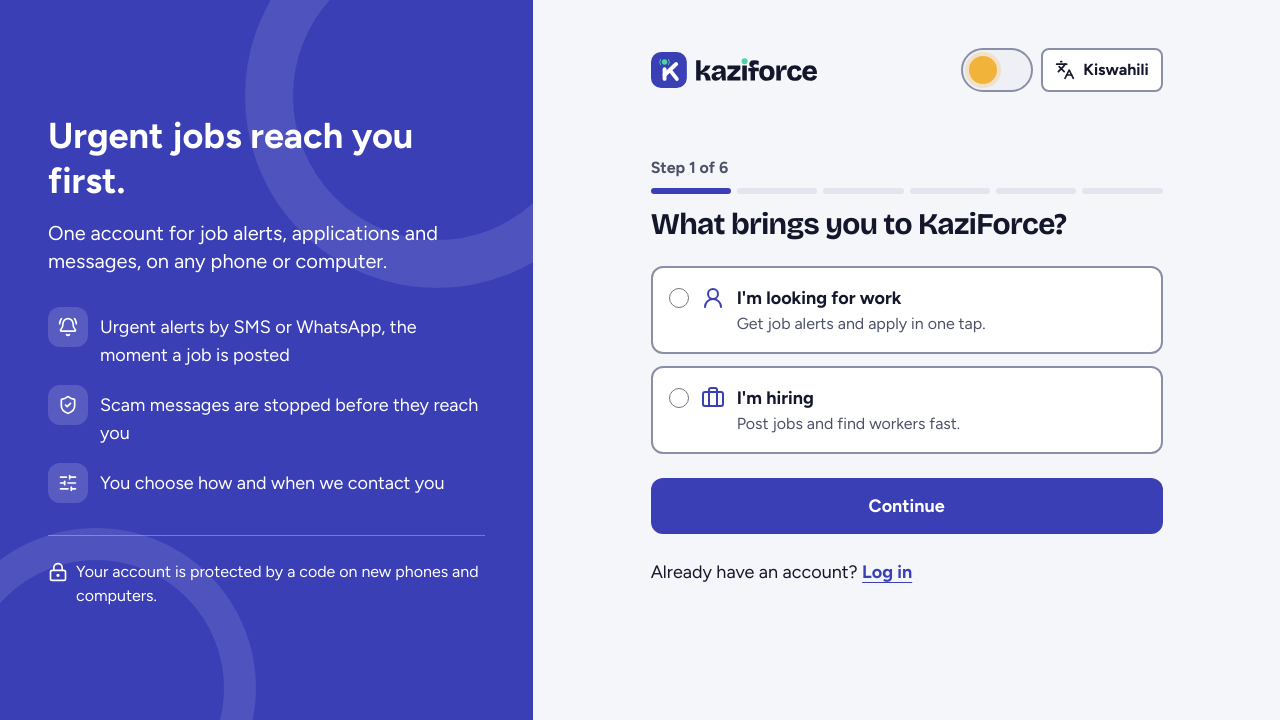
Test: Sign up › asks "looking for work or hiring?" first and needs an answer
The width and height of the screenshot is (1280, 720).
expect the heading reads "What brings you to KaziForce?": met, box [651,206,1066,242]
expect the text "Step 1 of 6" is shown: met, box [651,158,728,177]
Click the button "Continue": (907, 506) [651,478,1163,534]
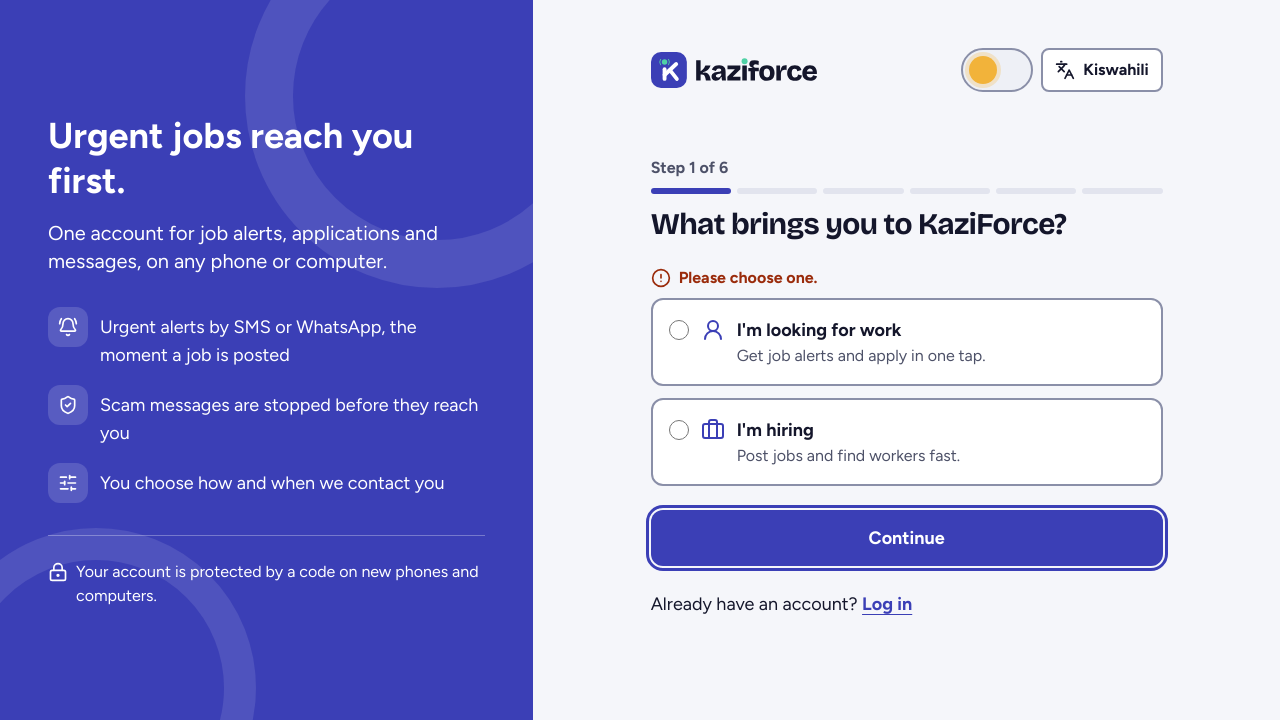
expect the text "Please choose one." is shown: met, box [679,266,818,290]
Click the radio button labelled "I'm hiring Post jobs and find workers fast.": (679, 430) [669,420,689,440]
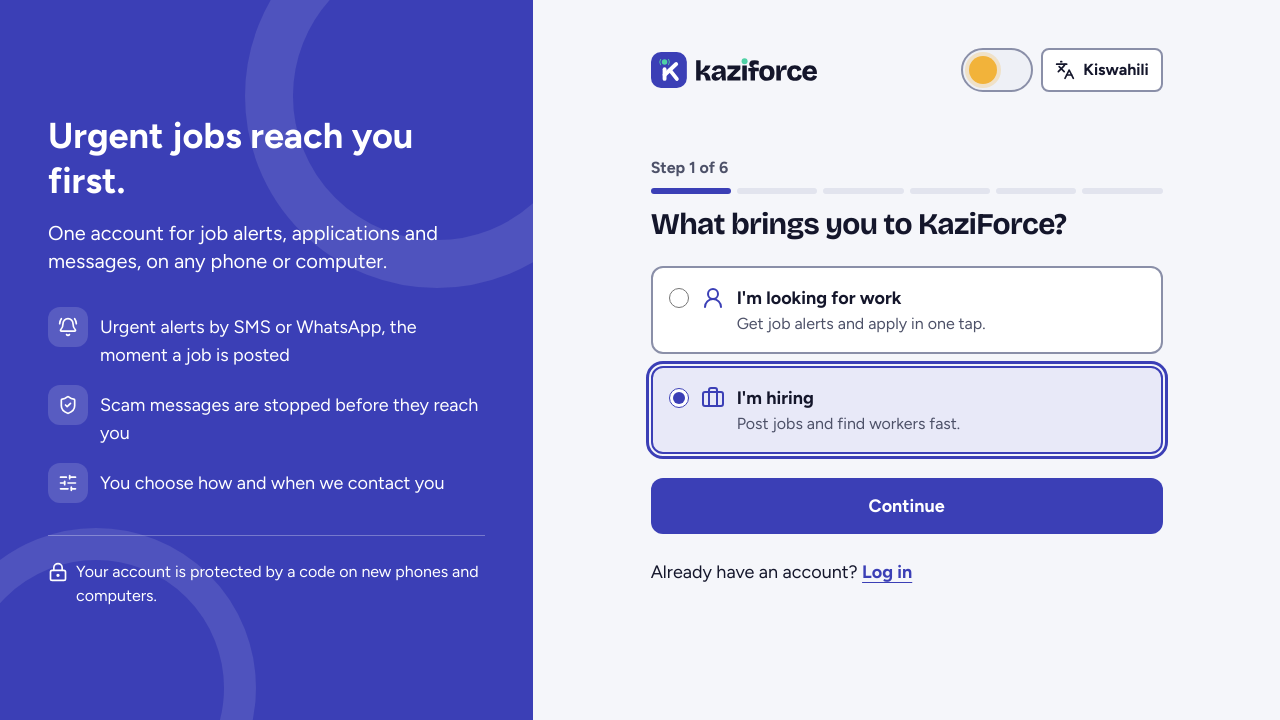
Click the button "Continue": (907, 506) [651,478,1163,534]
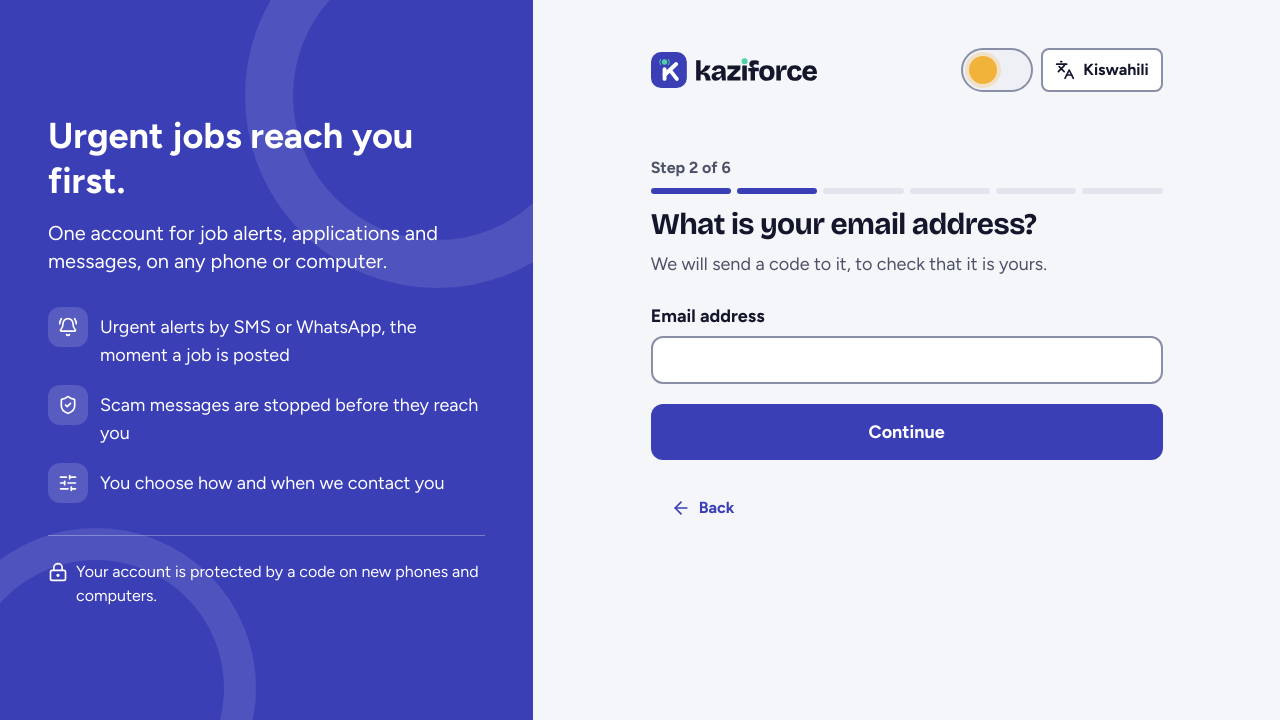
expect the heading reads "What is your email address?": met, box [651,206,1036,242]
